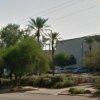Palm tree: (24, 12, 57, 57)
